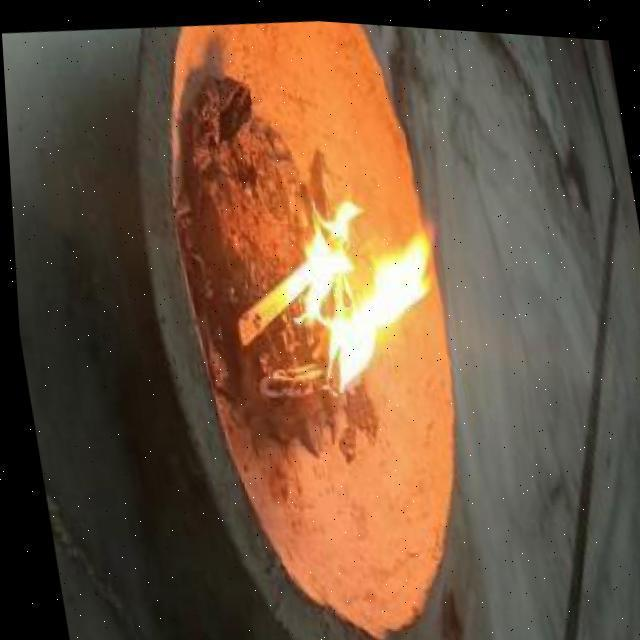fire: (276, 192, 444, 400)
